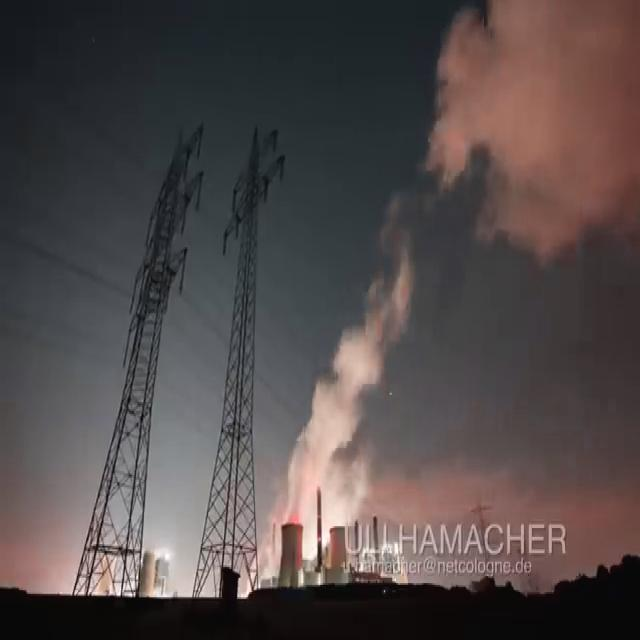smoke: (283, 0, 640, 560)
